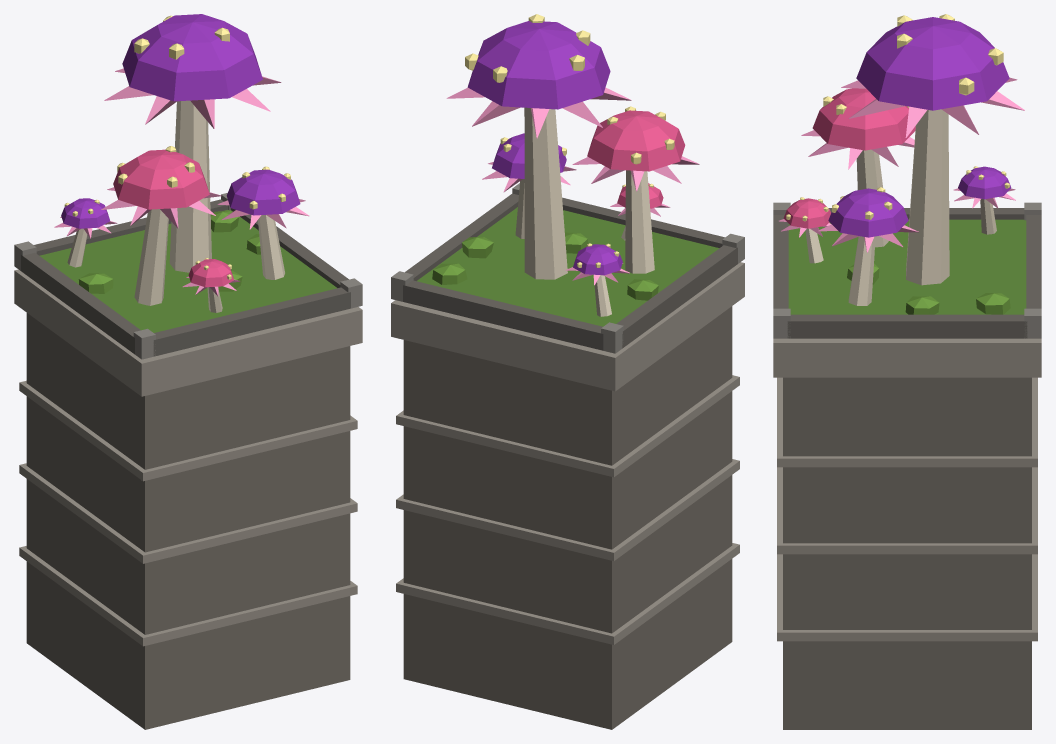
The model's file is decor_mushroom_flowers.glb.
The picture shows the model from 3 angles, left to right: view 1: azimuth 30°, elevation 25°; view 2: azimuth 150°, elevation 25°; view 3: azimuth 270°, elevation 25°; orthographic projection. The views are drawn at different scales.
Visible parts, largest first — view 1: decor_mushroom_flowers; view 2: decor_mushroom_flowers; view 3: decor_mushroom_flowers.
Boxes of the visible parts, bbox=[...] form: decor_mushroom_flowers: bbox=[14, 14, 362, 729]; decor_mushroom_flowers: bbox=[391, 14, 744, 729]; decor_mushroom_flowers: bbox=[773, 14, 1041, 729].
Size of the model in its own units: 2.8 by 7.6 by 2.8.
